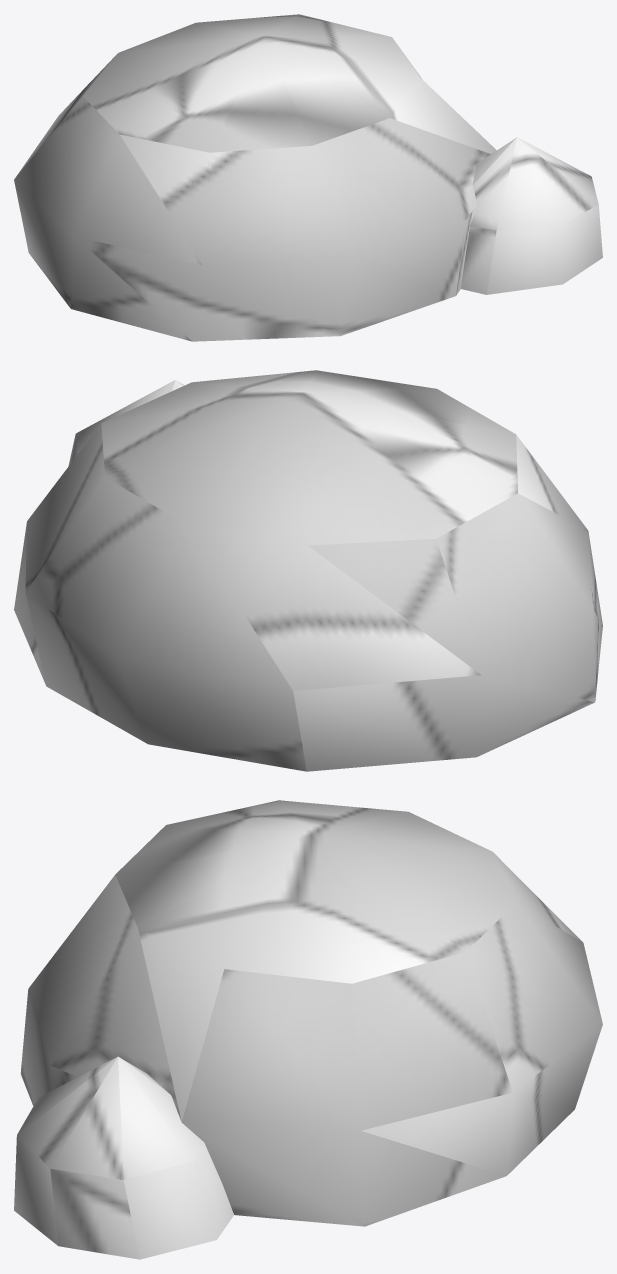
The model's file is boulder_2.obj.
The picture shows the model from 3 angles, top to bottom: view 1: azimuth 30°, elevation 25°; view 2: azimuth 150°, elevation 25°; view 3: azimuth 270°, elevation 25°; orthographic projection. The views are drawn at different scales.
Visible parts, largest first — view 1: part_000_stuff_rock, part_035_stuff_rock; view 2: part_000_stuff_rock, part_035_stuff_rock; view 3: part_000_stuff_rock, part_035_stuff_rock.
Part boxes in pixels (x1,y1,x2,y2): part_000_stuff_rock: (14, 14, 496, 341); part_035_stuff_rock: (461, 137, 602, 294); part_000_stuff_rock: (14, 370, 602, 771); part_035_stuff_rock: (68, 380, 184, 466); part_000_stuff_rock: (20, 800, 602, 1226); part_035_stuff_rock: (14, 1056, 233, 1259).
Bounding box in the file's own units: 0.835 × 0.3479 × 0.7069.
